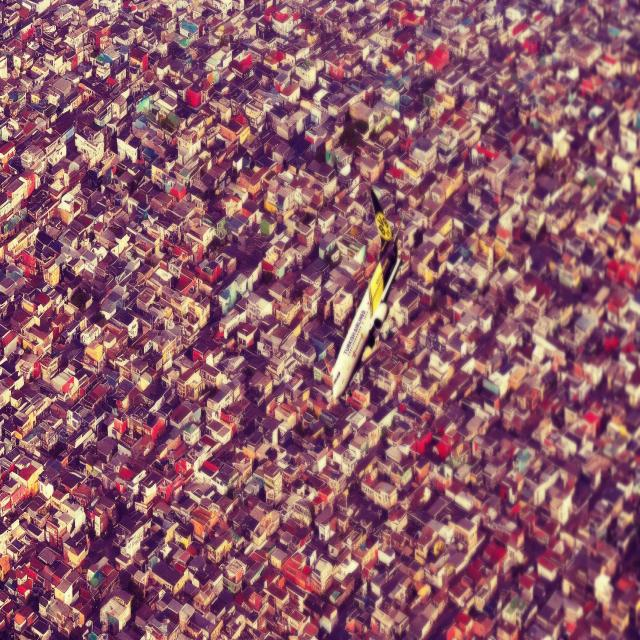airplane: (326, 184, 403, 406)
